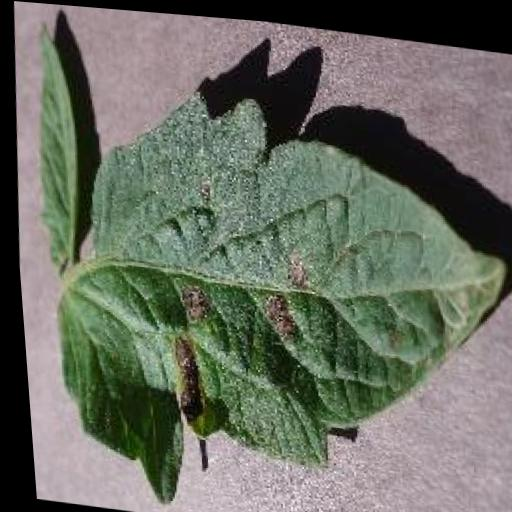Early Blight: (5, 17, 512, 512)
